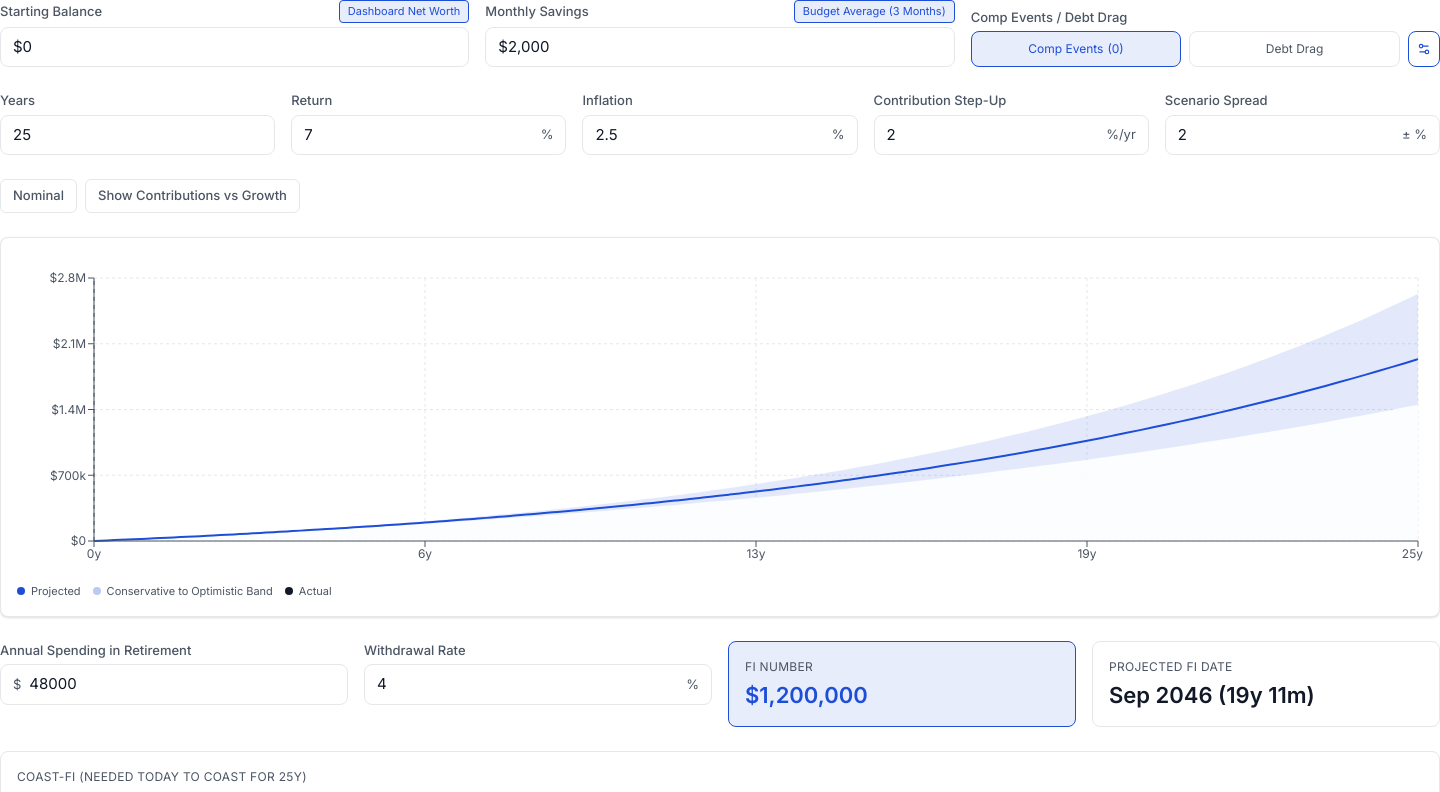
Test: ForecasterTool comp tax controls › hides tax controls behind the gear popover
Expected: the text "Tax Comp Events" is not shown
What coordinates should you click on to do the following:
click the button named "Comp event tax settings"
I would click on:
 (1424, 49)
Its box is [1408,31,1439,67].
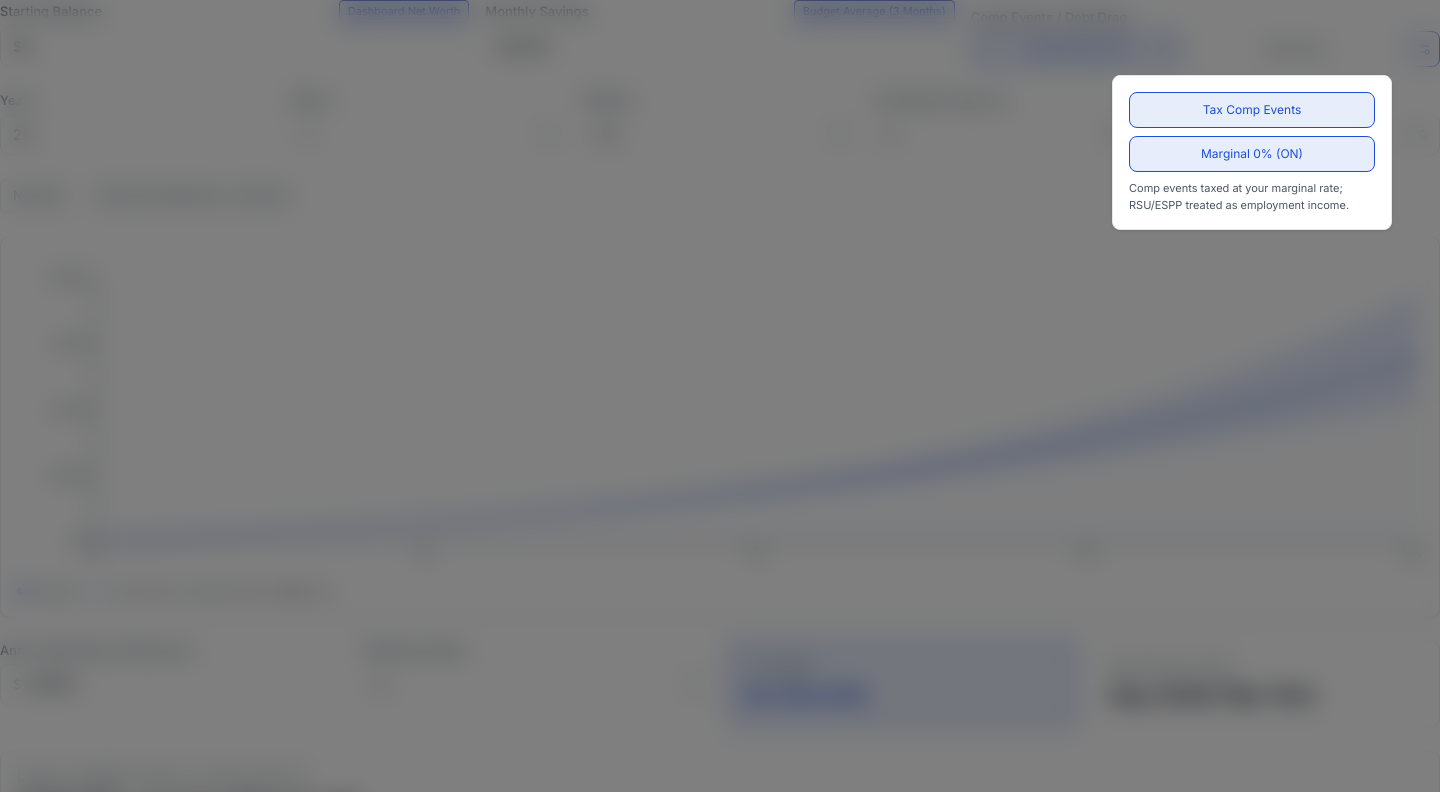
Expected: the button "Tax Comp Events" is shown, [1129,92,1375,128]
Expected: the text "Comp events taxed at your marginal rate" is shown, [1129,181,1349,212]
